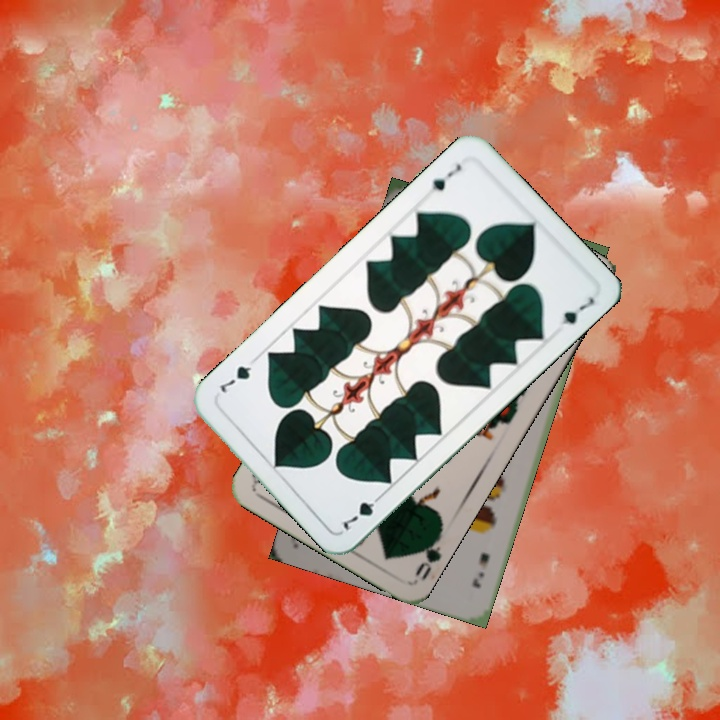E7: (468, 548, 492, 591)
G7: (338, 489, 387, 533), (428, 159, 465, 194)
GO: (410, 527, 445, 582)
